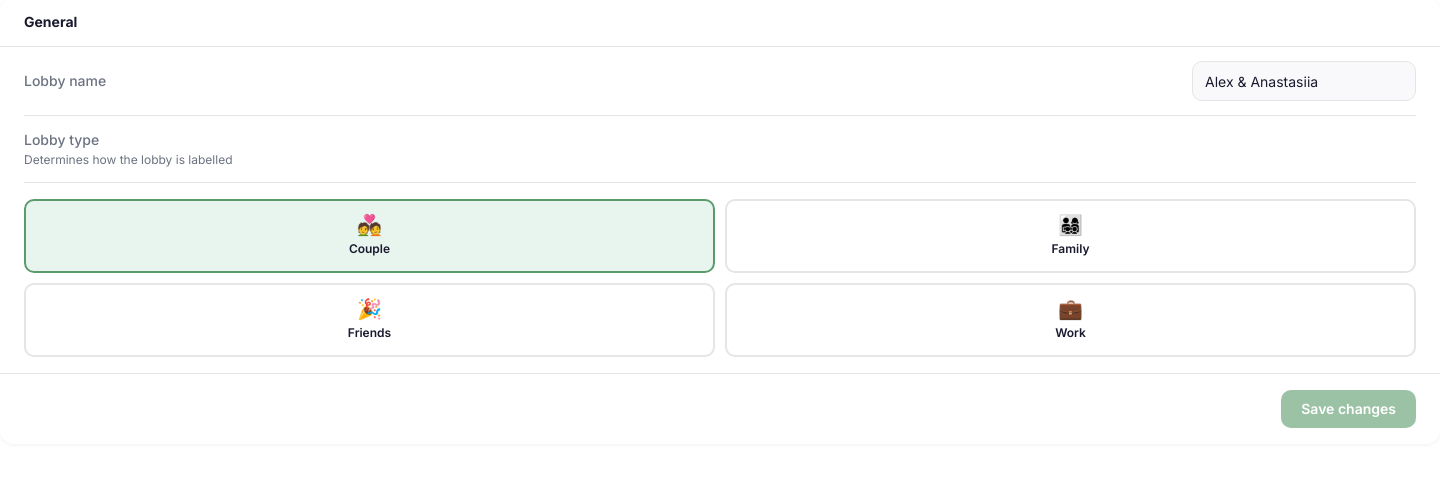
Test: LobbyGeneralCard › shows a validation error message on 400
Type "x" into the field named "Lobby name" at (1304, 81), box [1192,61,1416,101]
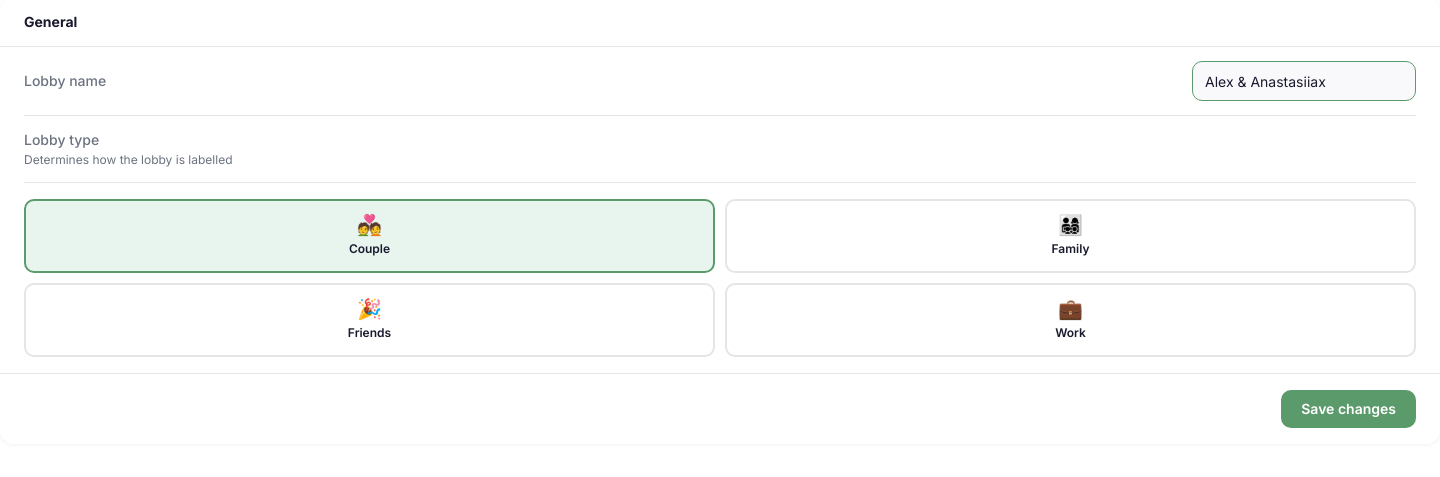
Click the button "Save changes" at (1349, 409), box [1281,390,1416,428]
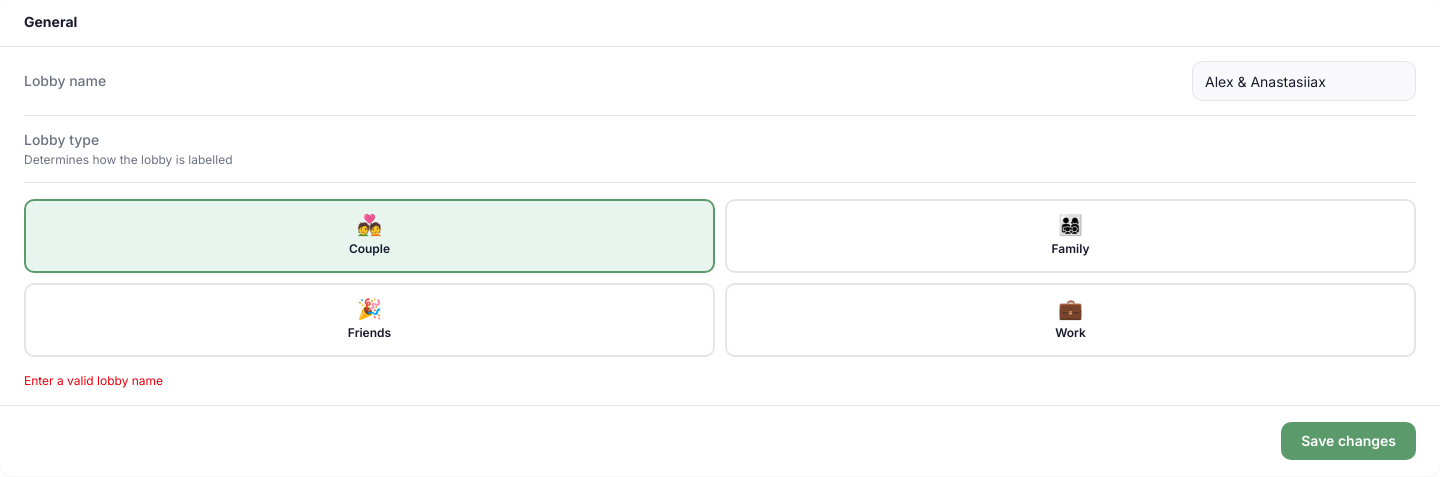
Check: the message reads "Enter a valid lobby name", box [24,373,163,388]
